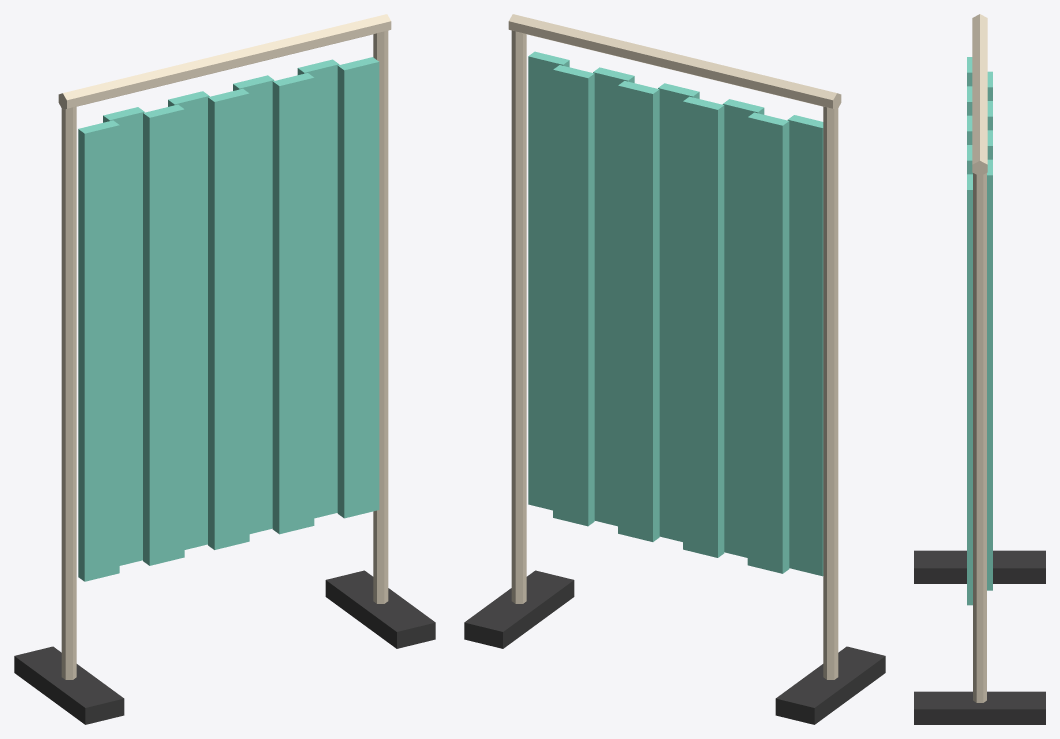
The picture shows the model from 3 angles, left to right: view 1: azimuth 30°, elevation 25°; view 2: azimuth 150°, elevation 25°; view 3: azimuth 270°, elevation 25°; orthographic projection. The views are drawn at different scales.
Parts seen in each view (by area): view 1: Pleated privacy fabric.006, Pleated privacy fabric.008, Pleated privacy fabric, Pleated privacy fabric.002, Pleated privacy fabric.004, Pleated privacy fabric.007, Pleated privacy fabric.001, Pleated privacy fabric.005, Pleated privacy fabric.003, Curtain upright, Curtain upright.001, Curtain rail (+2 smaller); view 2: Pleated privacy fabric.001, Pleated privacy fabric.007, Pleated privacy fabric.005, Pleated privacy fabric.003, Pleated privacy fabric, Pleated privacy fabric.008, Pleated privacy fabric.002, Pleated privacy fabric.004, Pleated privacy fabric.006, Curtain upright, Curtain upright.001, Curtain rail (+2 smaller); view 3: Curtain upright.001, Curtain foot.001, Curtain foot, Pleated privacy fabric.008, Pleated privacy fabric.007, Curtain rail.
Part boxes in pixels (<box>): Pleated privacy fabric.006: <box>272,73,314,534</box>; Pleated privacy fabric.008: <box>337,57,379,518</box>; Pleated privacy fabric: <box>78,120,119,581</box>; Pleated privacy fabric.002: <box>143,104,184,565</box>; Pleated privacy fabric.004: <box>208,88,249,549</box>; Pleated privacy fabric.007: <box>297,59,339,518</box>; Pleated privacy fabric.001: <box>103,107,144,565</box>; Pleated privacy fabric.005: <box>233,75,274,533</box>; Pleated privacy fabric.003: <box>168,91,209,549</box>; Curtain upright: <box>61,106,76,679</box>; Curtain upright.001: <box>373,30,388,603</box>; Curtain rail: <box>58,14,391,109</box>; Pleated privacy fabric.001: <box>747,112,789,573</box>; Pleated privacy fabric.007: <box>553,65,594,526</box>; Pleated privacy fabric.005: <box>618,81,659,541</box>; Pleated privacy fabric.003: <box>683,96,724,557</box>; Pleated privacy fabric: <box>787,115,823,576</box>; Pleated privacy fabric.008: <box>528,51,569,510</box>; Pleated privacy fabric.002: <box>722,99,764,557</box>; Pleated privacy fabric.004: <box>658,83,699,541</box>; Pleated privacy fabric.006: <box>593,67,634,526</box>; Curtain upright: <box>823,106,838,679</box>; Curtain upright.001: <box>511,30,526,603</box>; Curtain rail: <box>508,14,841,109</box>; Curtain upright.001: <box>973,173,986,702</box>; Curtain foot.001: <box>914,691,1045,724</box>; Curtain foot: <box>914,550,1045,583</box>; Pleated privacy fabric.008: <box>967,174,972,605</box>; Pleated privacy fabric.007: <box>987,159,992,590</box>; Curtain rail: <box>972,14,987,176</box>.
Bounding box in the file's own units: 108 × 178 × 38.
